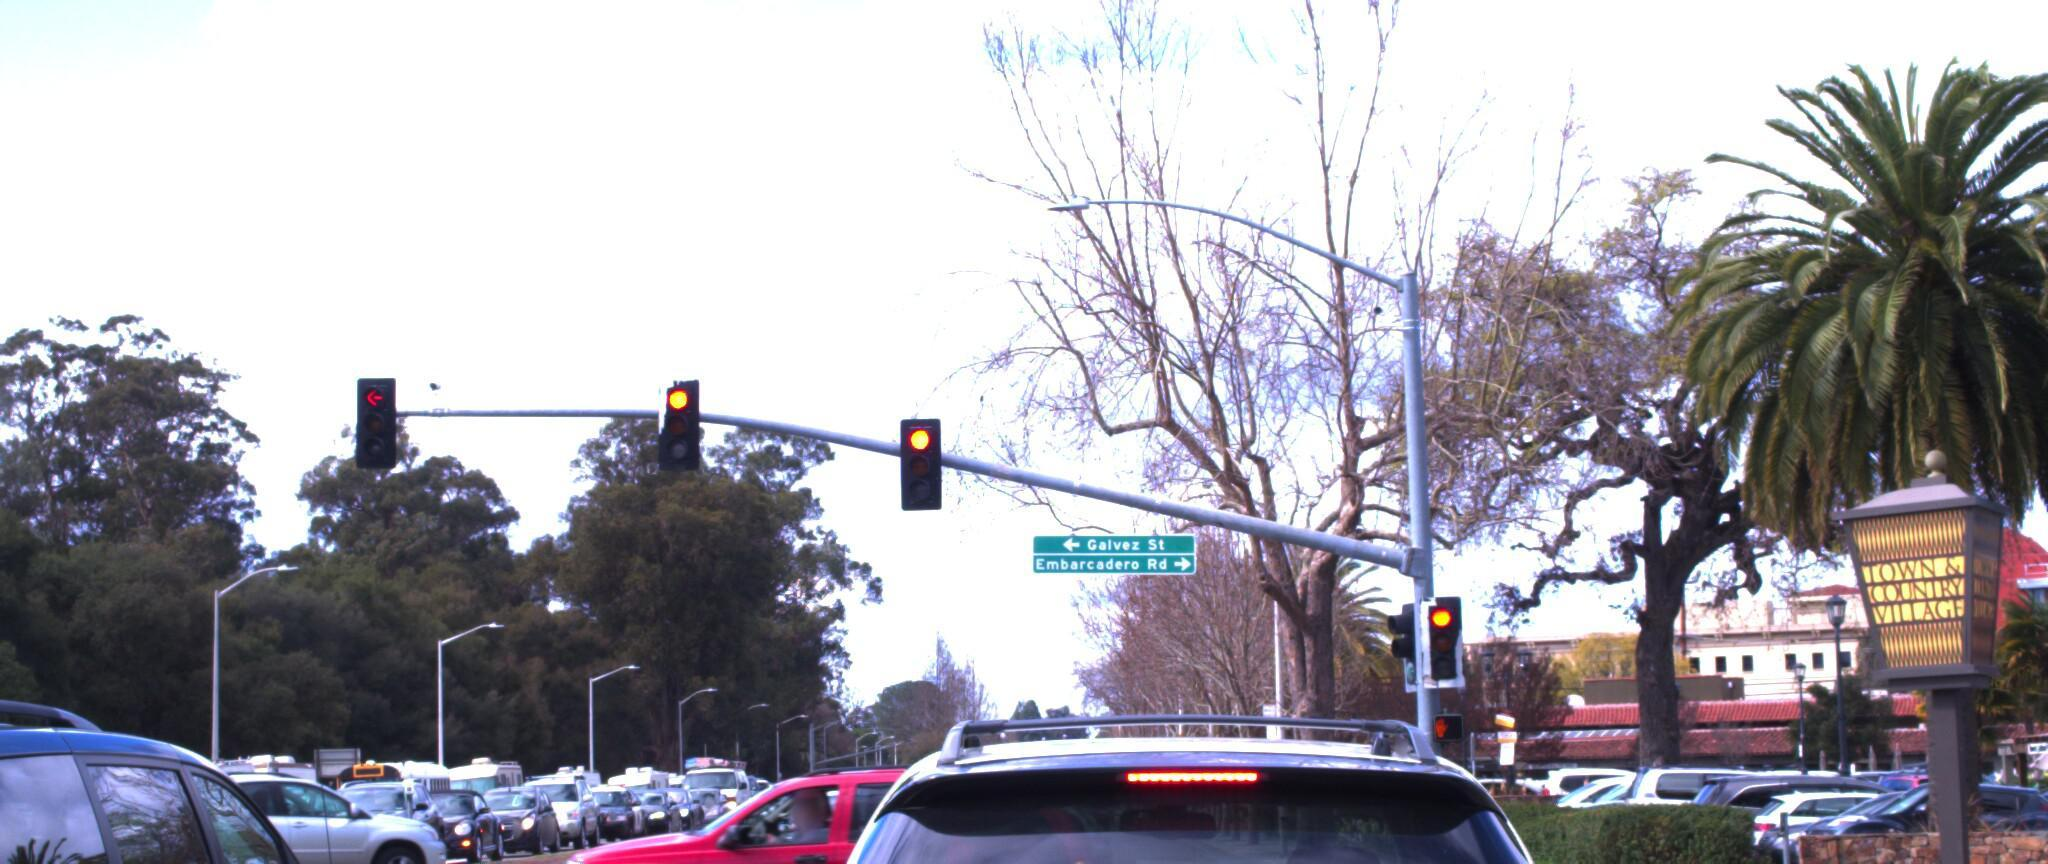car: (694, 672, 1738, 864), (0, 673, 451, 864), (528, 731, 1136, 864), (74, 765, 461, 864), (1676, 749, 1983, 854), (1735, 764, 2048, 864), (1800, 754, 2048, 864), (511, 745, 620, 824)
other_vehicle: (0, 698, 98, 852)
